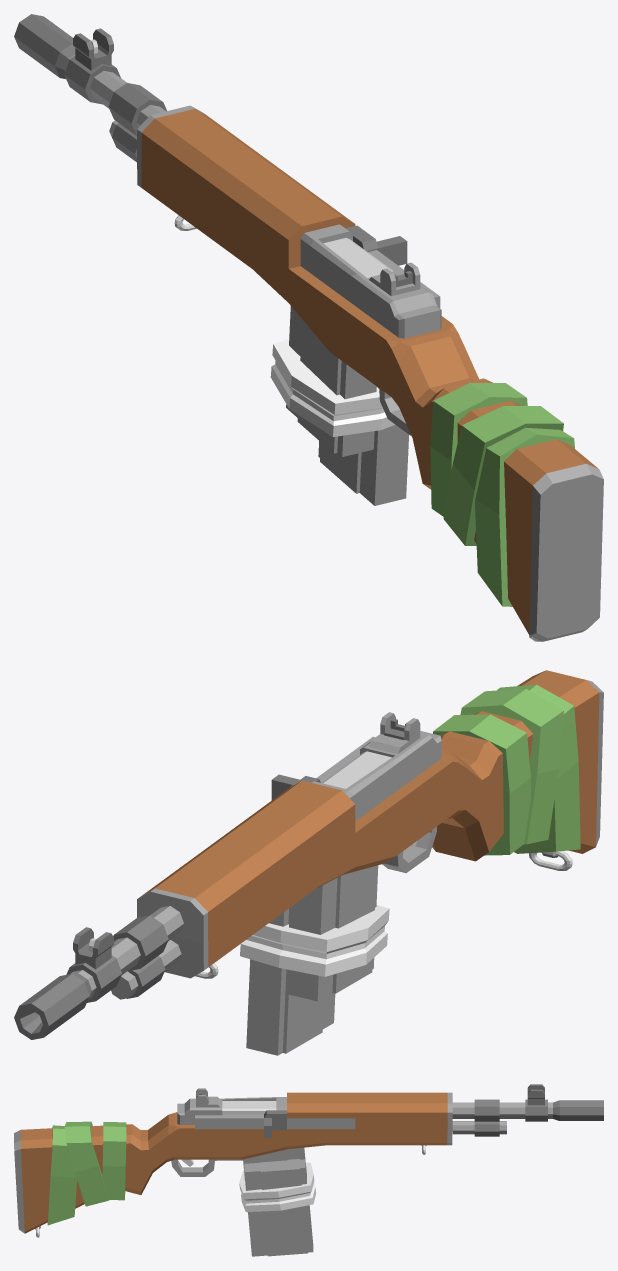
The model's file is m14Cartoonish.fbx.
The picture shows the model from 3 angles, top to bottom: view 1: azimuth 30°, elevation 25°; view 2: azimuth 150°, elevation 25°; view 3: azimuth 270°, elevation 25°; orthographic projection. The views are drawn at different scales.
Visible parts, largest first — view 1: Cube, Cylinder.002, Cube.003, Cylinder, Cube.006, Cube.011, Cube.002, Cube.005, Cube.004; view 2: Cube, Cylinder.002, Cylinder, Cube.006, Cube.003, Cube.011, Cube.002, Cylinder.001, Cube.005, Cube.001, Cube.004; view 3: Cube, Cylinder.002, Cube.011, Cylinder, Cube.003, Cube.007, Cube.006, Cylinder.001, Cube.002, Cube.001, Cube.004, Cube.005.
Part boxes in pixels (x1,y1,x2,y2): Cube: [137, 105, 603, 641]; Cylinder.002: [430, 383, 574, 606]; Cube.003: [300, 224, 441, 338]; Cylinder: [14, 14, 166, 135]; Cube.006: [270, 339, 395, 436]; Cube.011: [318, 386, 408, 505]; Cube.002: [286, 306, 376, 457]; Cube.005: [73, 28, 113, 70]; Cube.004: [345, 225, 407, 265]; Cube: [137, 670, 603, 978]; Cylinder.002: [433, 684, 580, 855]; Cylinder: [14, 906, 183, 1039]; Cube.006: [240, 905, 389, 976]; Cube.003: [312, 712, 441, 820]; Cube.011: [246, 908, 335, 1055]; Cube.002: [286, 865, 378, 1001]; Cylinder.001: [111, 940, 181, 999]; Cube.005: [73, 927, 113, 969]; Cube.001: [382, 826, 436, 873]; Cube.004: [271, 774, 320, 800]; Cube: [14, 1092, 452, 1233]; Cylinder.002: [47, 1121, 126, 1225]; Cube.011: [244, 1159, 313, 1256]; Cylinder: [452, 1099, 603, 1121]; Cube.003: [177, 1088, 286, 1124]; Cube.007: [195, 1114, 355, 1129]; Cube.006: [239, 1162, 316, 1211]; Cylinder.001: [452, 1121, 506, 1136]; Cube.002: [243, 1147, 305, 1212]; Cube.001: [171, 1159, 242, 1176]; Cube.004: [264, 1110, 286, 1137]; Cube.005: [527, 1084, 544, 1105].
Size of the model in its own units: 56.1 by 140 by 482.
